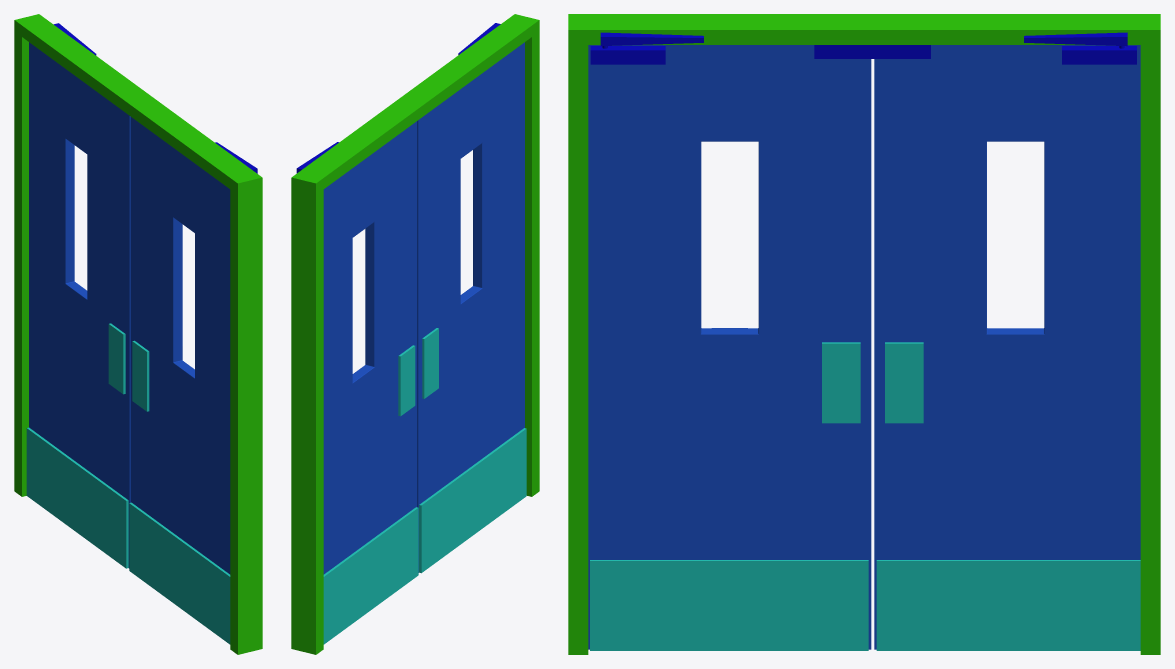
The model's file is door.fbx.
The picture shows the model from 3 angles, left to right: view 1: azimuth 30°, elevation 25°; view 2: azimuth 150°, elevation 25°; view 3: azimuth 270°, elevation 25°; orthographic projection. The views are drawn at different scales.
Visible parts, largest first — view 1: doors, door_Frame, DoorHandle_MetalParts; view 2: doors, door_Frame, DoorHandle_MetalParts; view 3: doors, DoorHandle_MetalParts, door_Frame, Metal_parts.
Part boxes in pixels (x1=…): doors: x1=29, y1=42, x2=230, y2=574; door_Frame: x1=14, y1=14, x2=262, y2=654; DoorHandle_MetalParts: x1=26, y1=323, x2=230, y2=644; doors: x1=323, y1=42, x2=524, y2=574; door_Frame: x1=291, y1=14, x2=539, y2=654; DoorHandle_MetalParts: x1=323, y1=328, x2=526, y2=644; doors: x1=588, y1=45, x2=1140, y2=649; DoorHandle_MetalParts: x1=590, y1=342, x2=1140, y2=650; door_Frame: x1=568, y1=14, x2=1160, y2=654; Metal_parts: x1=590, y1=32, x2=1136, y2=64.
Size of the model in its own units: 16.85 by 239 by 205.
